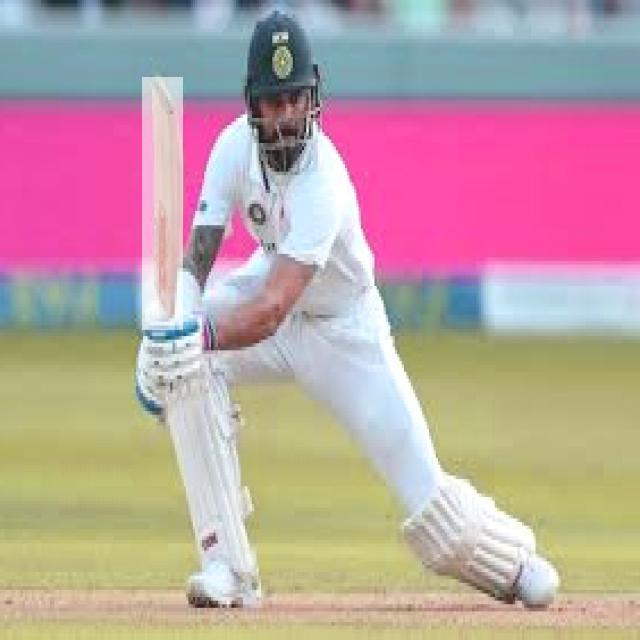bat: (141, 74, 182, 330)
toe: (143, 73, 179, 112)
